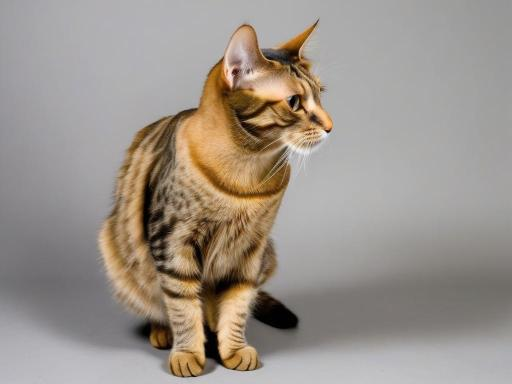cat_sitting: (98, 22, 332, 376)
